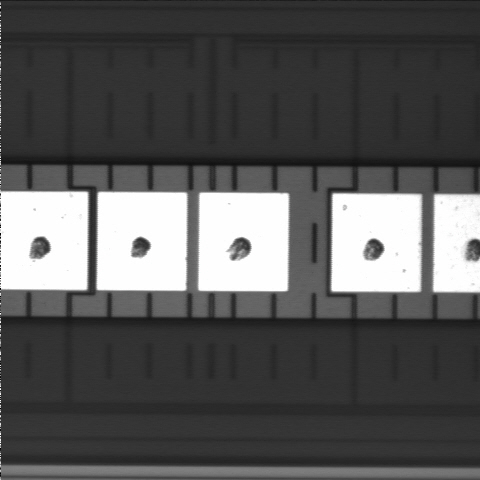pad: (198, 193, 289, 291), (97, 192, 187, 291), (332, 194, 421, 292)
